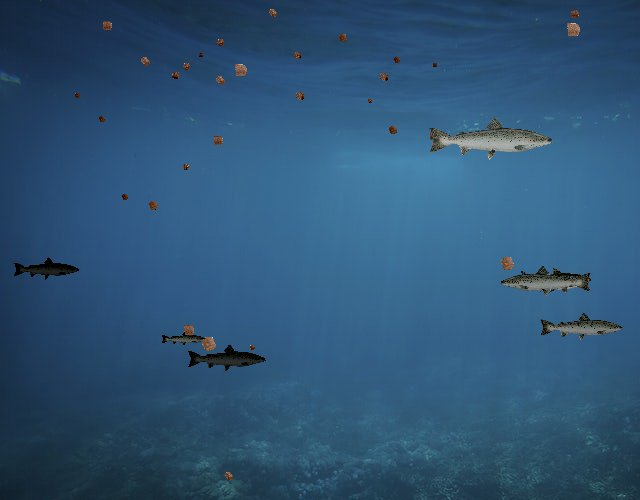Fish: (426, 115, 555, 161), (499, 264, 593, 298), (538, 311, 624, 342), (186, 343, 267, 372), (518, 268, 591, 294), (13, 256, 81, 281), (161, 330, 208, 347)
Pellet: (194, 328, 224, 359), (177, 319, 200, 342), (374, 67, 393, 86), (220, 467, 238, 485), (178, 160, 193, 175), (118, 190, 132, 204)
